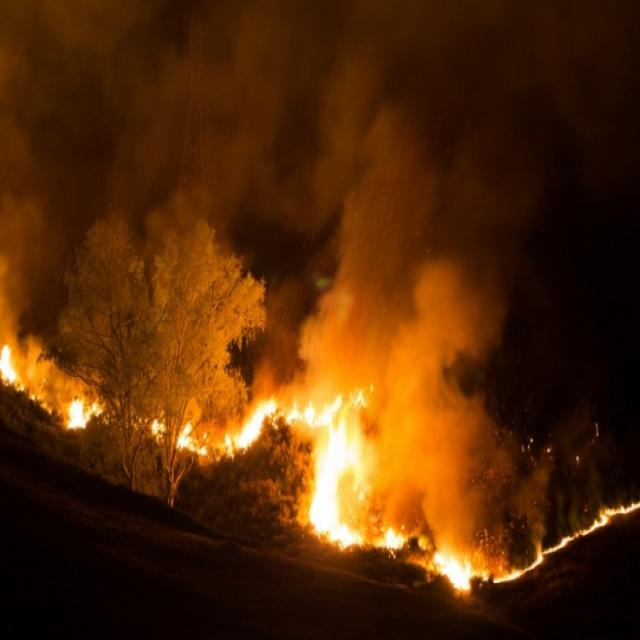Fire: (8, 330, 637, 614)
Smoke: (23, 27, 626, 473)
